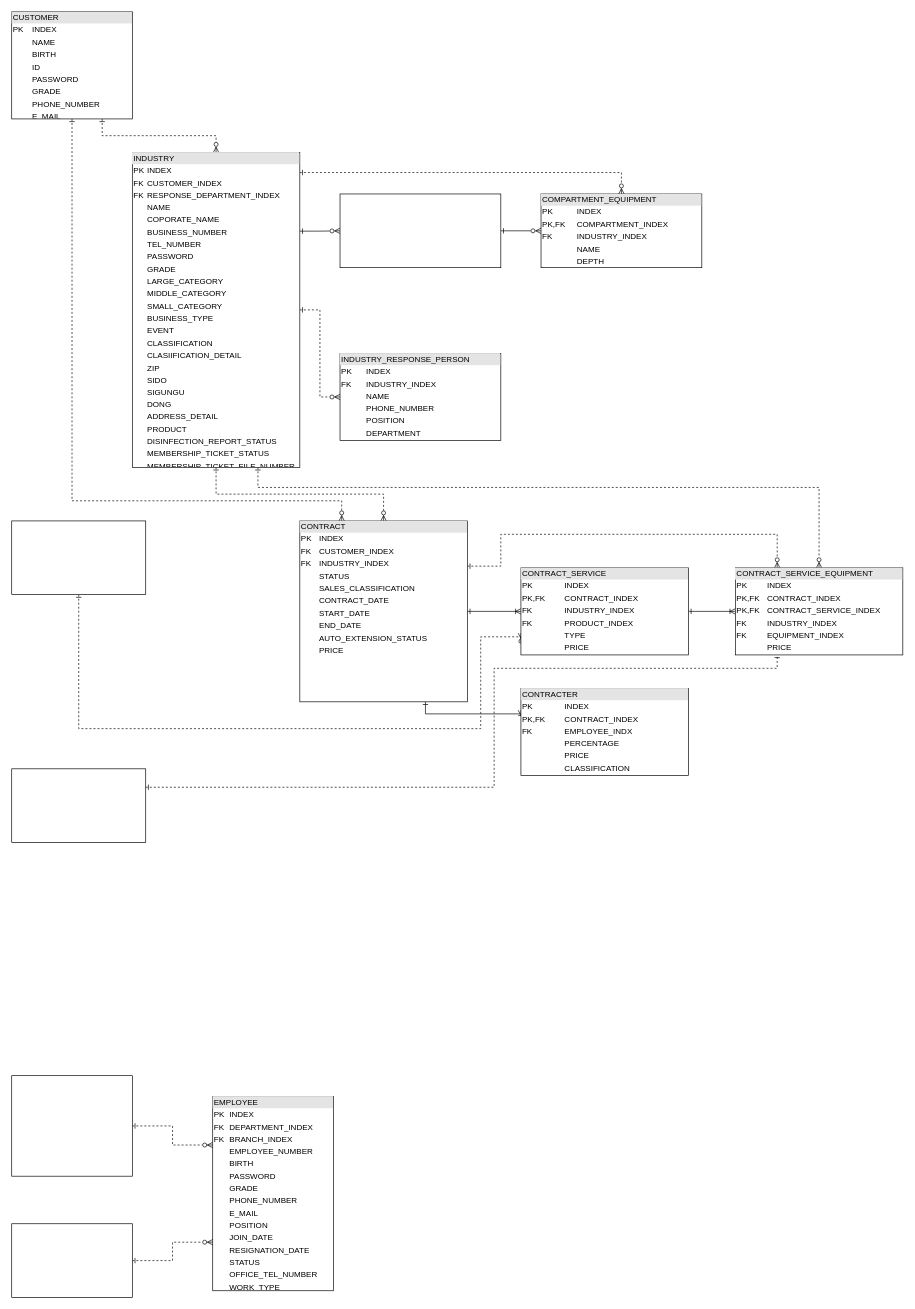
Image size: 915x1309. Some labels were removed from this diagram. Here are the shapes that lost their labels. From the top down, the centre of each, then its label:
the point at 420,230: COMPARTMENT PK INDEX PK,FK INDUSTRY_INDEX FK UP_INDEX NAME DEPTH
the point at 78,557: PRODUCT PK INDEX NAME PRICE TYPE STATUS
the point at 78,805: EQUIPMENT PK INDEX NAME PRICE TYPE STATUS
the point at 71,1125: BRANCH PK INDEX NAME ZIP SIDO SIGUNGU DONG ADDRESS_DETAIL
the point at 71,1260: DEPARTMENT PK INDEX FK UP_INDEX NAME TEL_NUMBER CLASSIFICATION
